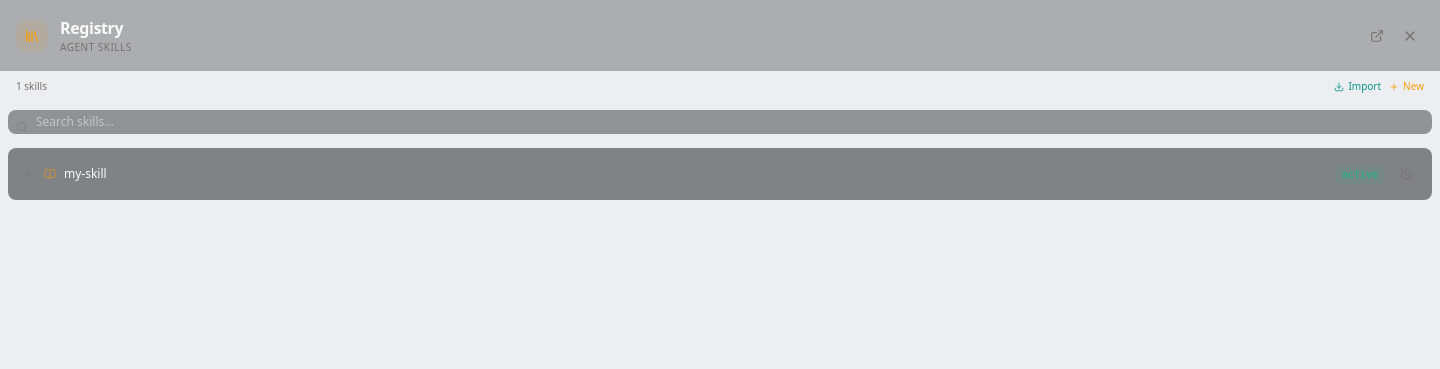
Test: RegistrySidebar › expanded body preview › fetches the body on expand and previews its first lines
The width and height of the screenshot is (1440, 369).
Click the text "my-skill" at (85, 174), box [64,165,107,182]
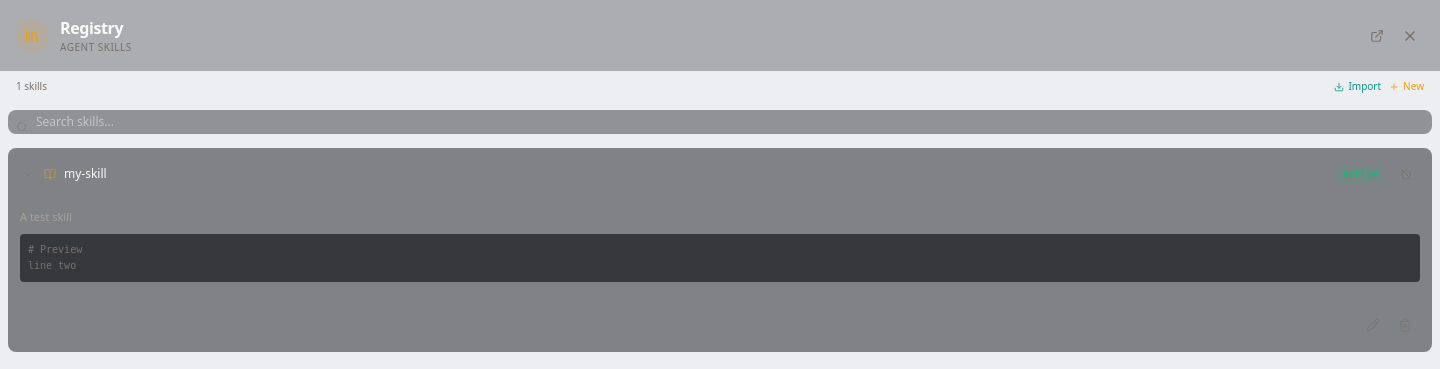
Expected: the text "# Preview line two" is shown, [20,234,1420,282]
